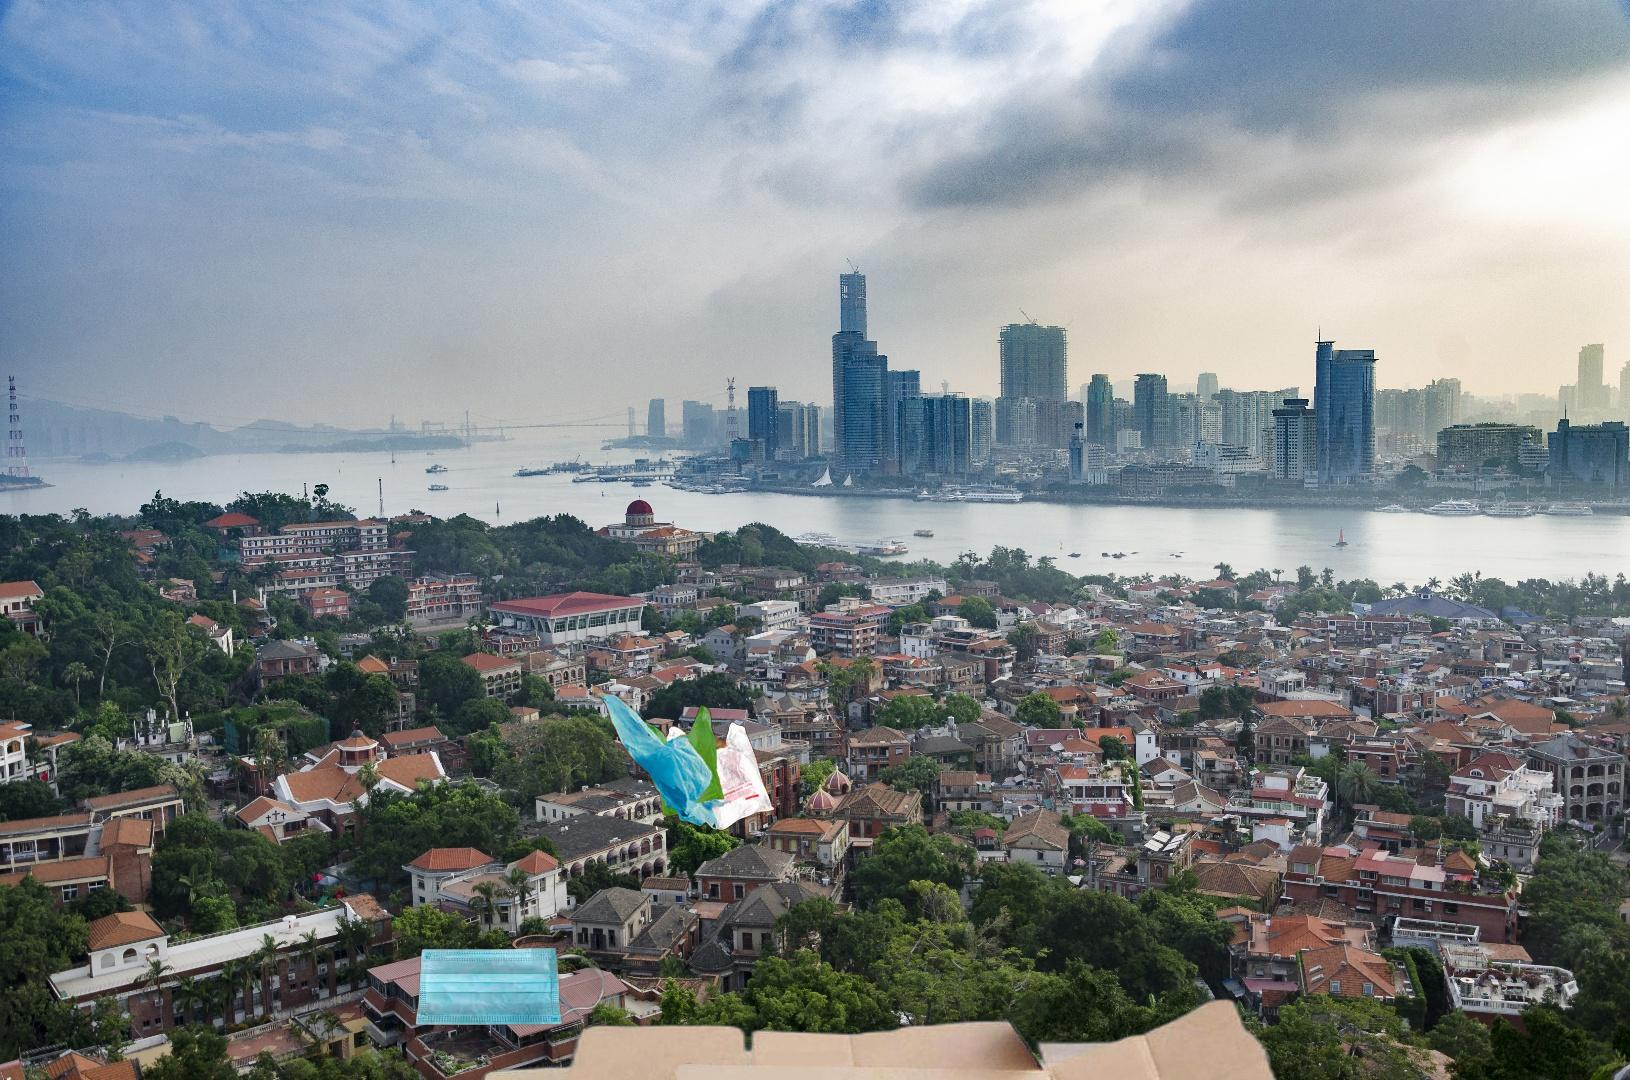plastic-bag: (592, 682, 778, 832)
trash: (379, 945, 605, 1028)
trashbox-cardboard: (314, 943, 1432, 1080)
